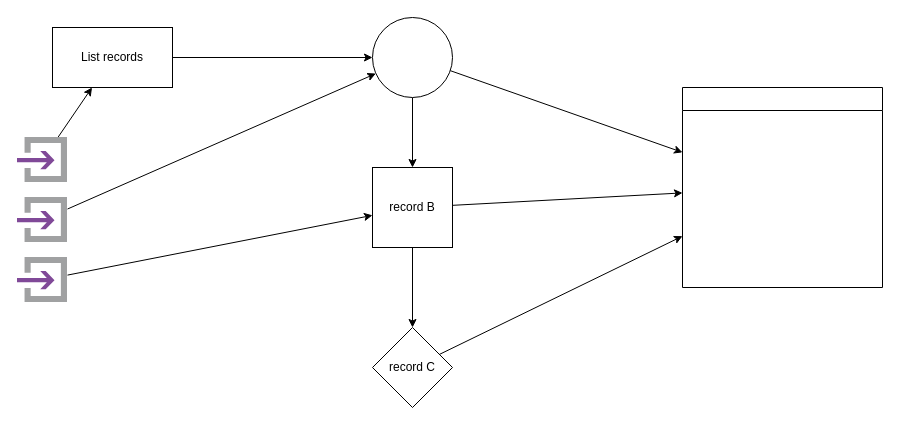
Image size: 900x425. Some labels were removed from this diagram. Each missing label, with the centre of its shape:
"records A" goes at (412,57).
"View" goes at (782,187).
